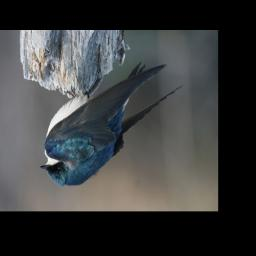Swallow: (40, 62, 184, 187)
